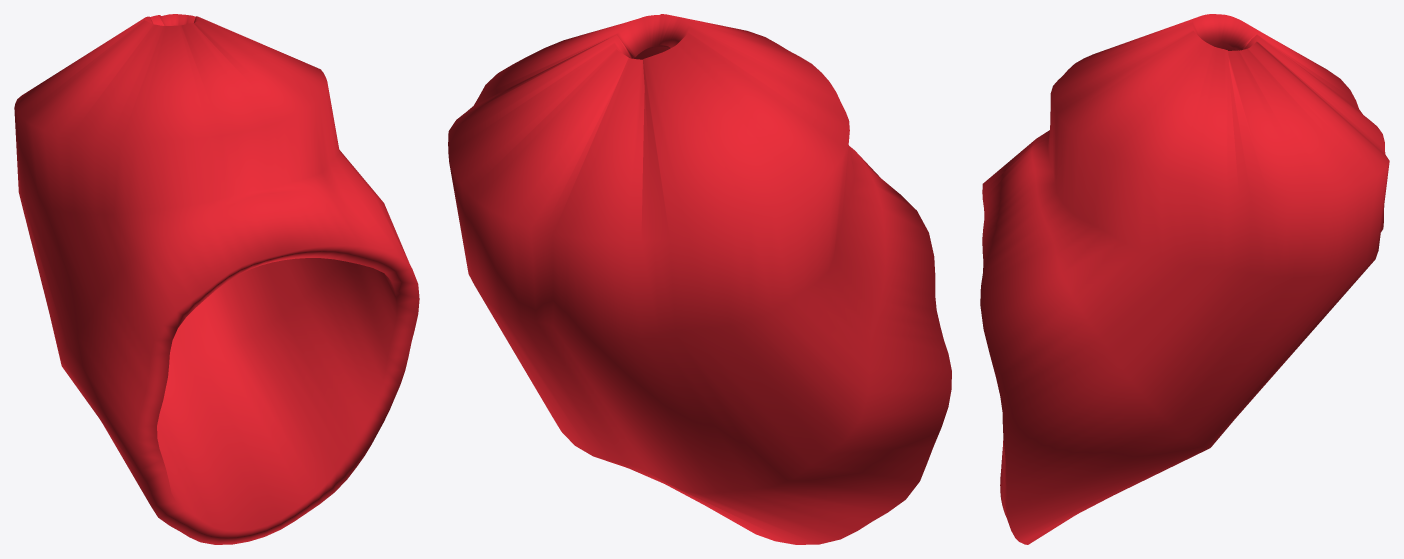
Rendered from SmallPart.fbx.
3 renders of one model, left to right at view 1: azimuth 30°, elevation 25°; view 2: azimuth 150°, elevation 25°; view 3: azimuth 270°, elevation 25°, orthographic. The views are drawn at different scales.
Visible parts, largest first — view 1: Cylinder.020; view 2: Cylinder.020; view 3: Cylinder.020.
Part boxes in pixels (x1,y1,x2,y2): Cylinder.020: [14, 14, 419, 544]; Cylinder.020: [448, 14, 951, 544]; Cylinder.020: [980, 14, 1389, 544].
Bounding box in the file's own units: 337 × 510 × 367.
